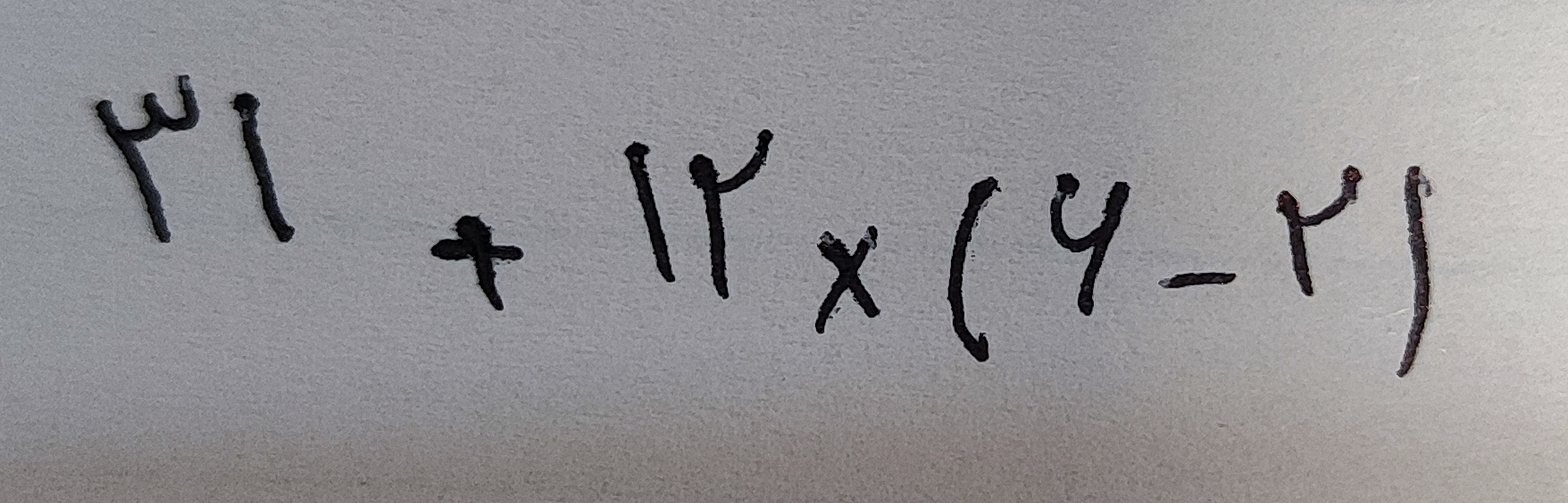character: (84, 62, 209, 255), (1382, 152, 1477, 387), (685, 117, 783, 322), (1039, 147, 1134, 343), (219, 77, 314, 267), (1264, 149, 1376, 308), (930, 148, 1003, 381), (587, 139, 684, 295), (413, 197, 538, 316), (797, 214, 894, 337), (1151, 235, 1248, 312)
